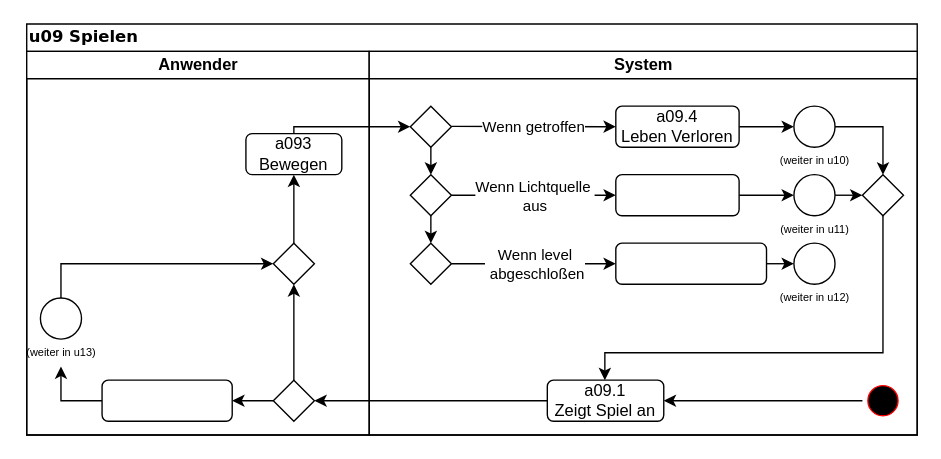
Image size: 941x459. Some labels were removed from this diagram. Each missing label, with the centre of its shape:
a09.2 Spiel Pausieren: (166,400)
a09.5 Lichtquelle aus: (676,194)
a09.6 Level abschließen: (690,263)
